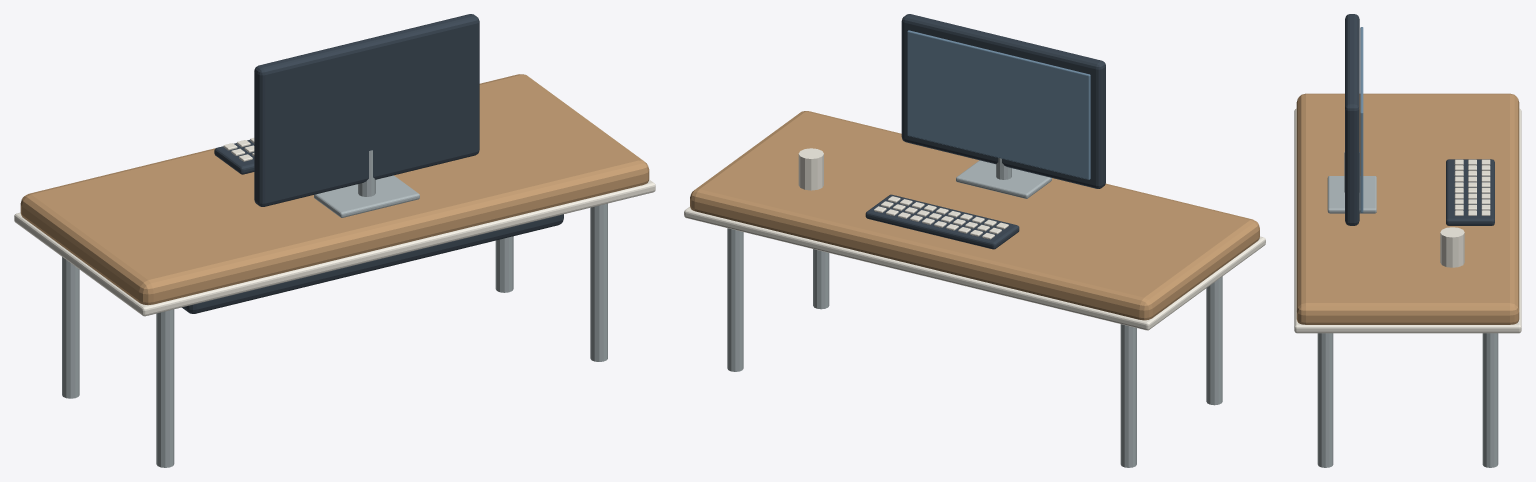
Rendered from desk.glb.
3 views of the same model, side by side, from view 1: azimuth 30°, elevation 25°; view 2: azimuth 150°, elevation 25°; view 3: azimuth 270°, elevation 25° (orthographic). The views are drawn at different scales.
Parts seen in each view (by area): view 1: desk; view 2: desk; view 3: desk.
Part boxes in pixels (x1=…): desk: x1=14, y1=14, x2=655, y2=467; desk: x1=684, y1=14, x2=1265, y2=467; desk: x1=1294, y1=14, x2=1521, y2=467.
Size of the model in its own units: 2.32 by 1.55 by 1.02.
